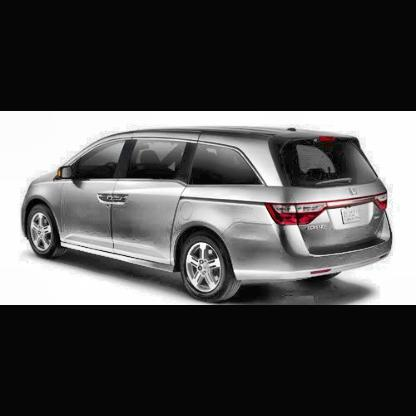Honda Odyssey Minivan 2012: (22, 126, 397, 305)
